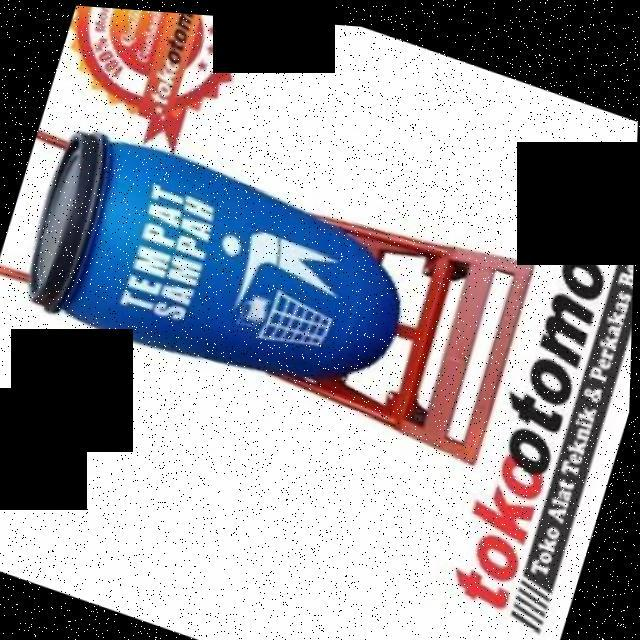bin: (0, 94, 426, 429)
